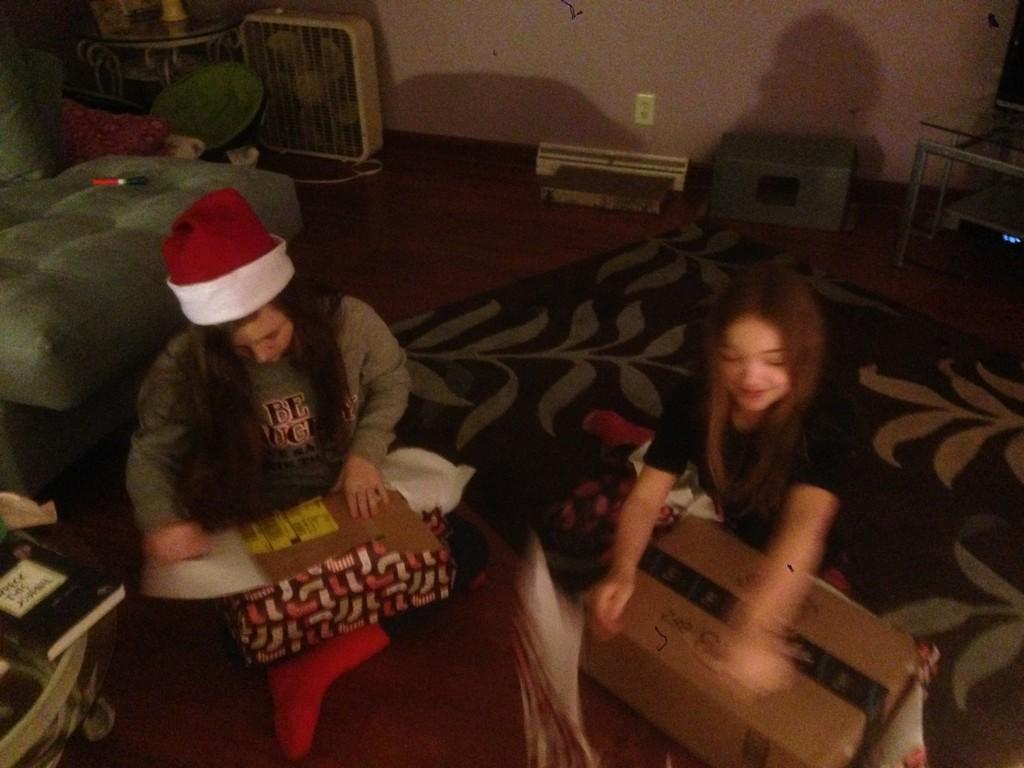Hat: (146, 194, 308, 332)
